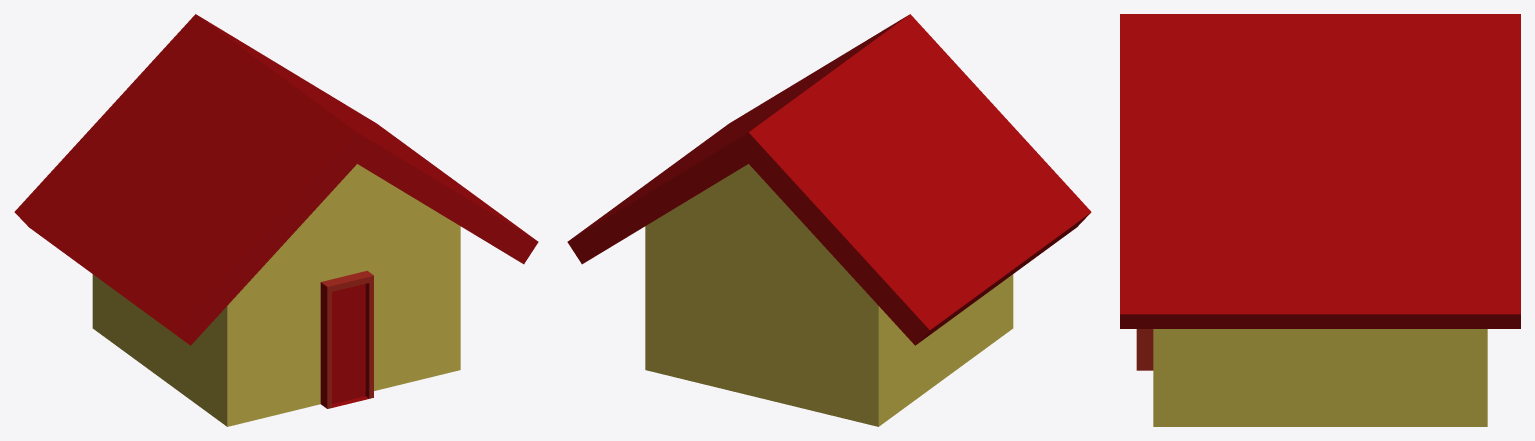
File: House.obj
The picture shows the model from 3 angles, left to right: view 1: azimuth 30°, elevation 25°; view 2: azimuth 150°, elevation 25°; view 3: azimuth 270°, elevation 25°; orthographic projection. The views are drawn at different scales.
Visible parts, largest first — view 1: House_Cube.001; view 2: House_Cube.001; view 3: House_Cube.001.
Boxes of the visible parts, x1,y1,x2,y2 form: House_Cube.001: [14, 14, 538, 426]; House_Cube.001: [567, 14, 1091, 426]; House_Cube.001: [1120, 14, 1520, 426].
Bounding box in the file's own units: 0.3107 × 0.226 × 0.24.
